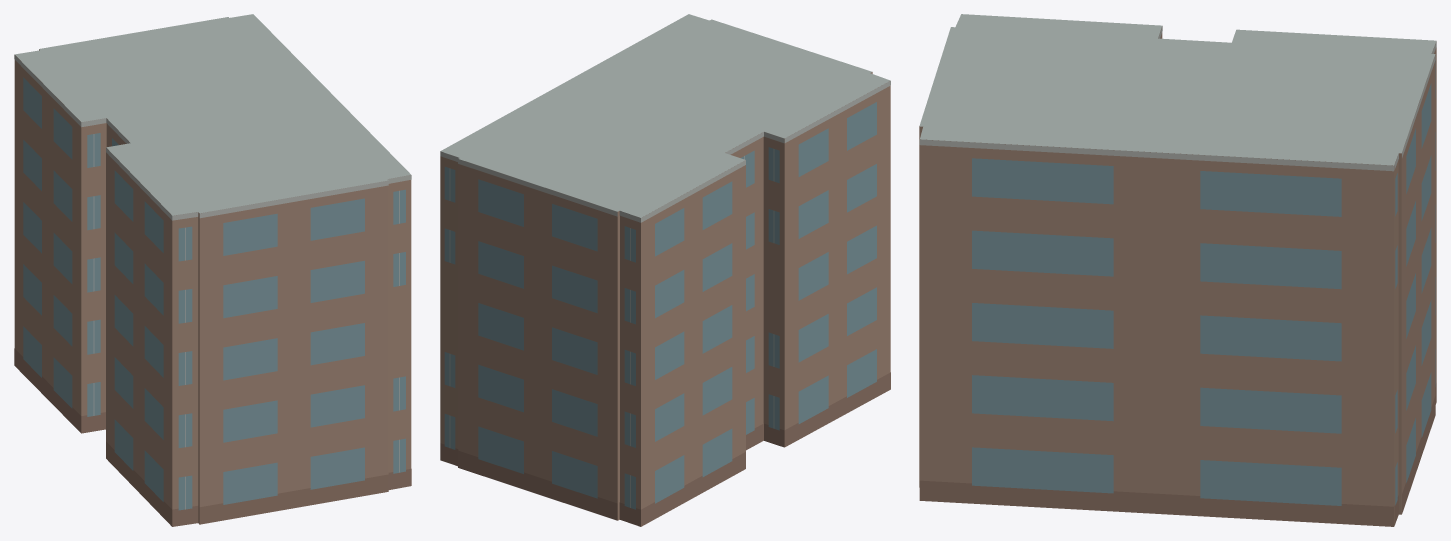
File: survey-upis-32671530.glb
3 views of the same model, side by side, from view 1: azimuth 30°, elevation 25°; view 2: azimuth 150°, elevation 25°; view 3: azimuth 270°, elevation 25° (orthographic). The views are drawn at different scales.
Parts seen in each view (by area): view 1: survey-upis-32671530.tmp; view 2: survey-upis-32671530.tmp; view 3: survey-upis-32671530.tmp.
Part boxes in pixels (left/top/right/bottom): survey-upis-32671530.tmp: left=14, top=14, right=411, bottom=526; survey-upis-32671530.tmp: left=440, top=14, right=890, bottom=526; survey-upis-32671530.tmp: left=919, top=14, right=1436, bottom=526.
Size of the model in its own units: 13.82 by 15.36 by 19.94.
